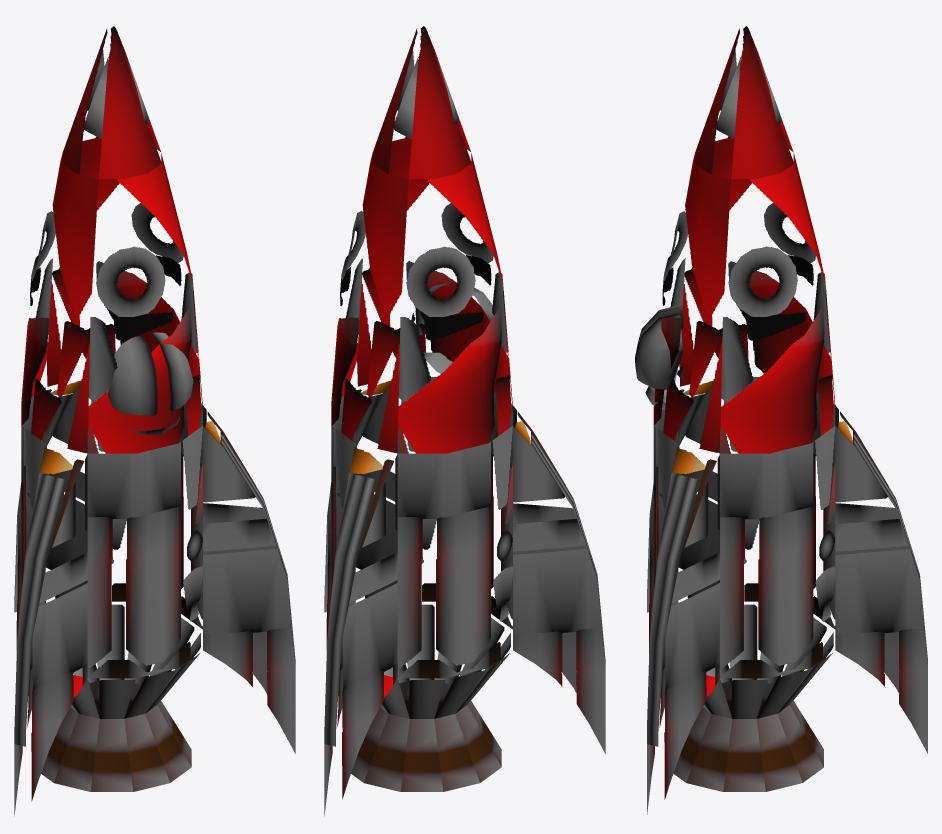
File: Rocket01.FBX
The picture shows the model from 3 angles, left to right: view 1: azimuth 30°, elevation 25°; view 2: azimuth 150°, elevation 25°; view 3: azimuth 270°, elevation 25°; orthographic projection.
Parts seen in each view (by area): view 1: Rocket; view 2: Rocket; view 3: Rocket.
Boxes of the visible parts, x1,y1,x2,y2 form: Rocket: [14, 26, 295, 816]; Rocket: [324, 26, 605, 816]; Rocket: [635, 26, 927, 814].
Size of the model in its own units: 10.59 by 26.81 by 9.6.
